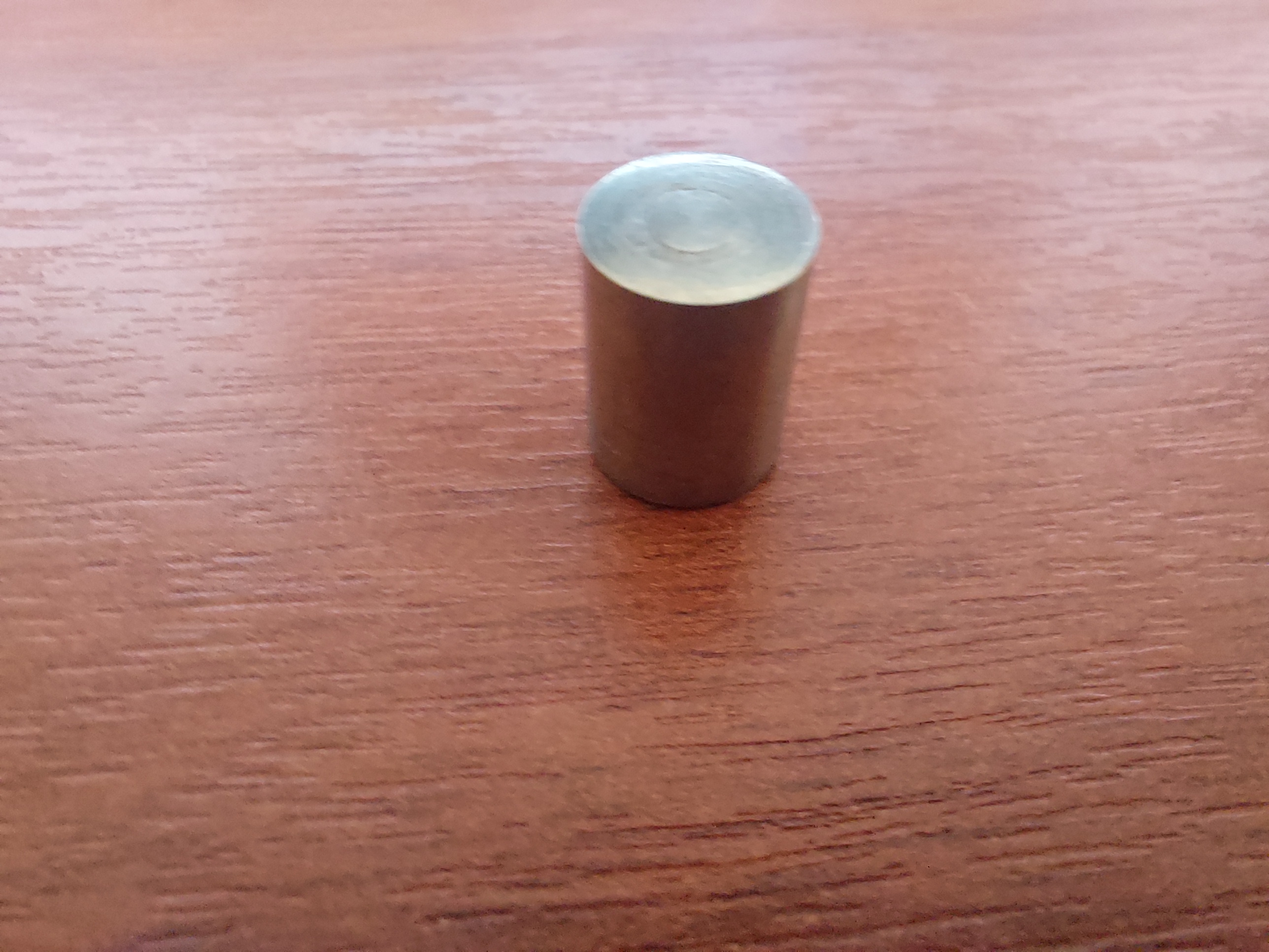tablet: (544, 125, 845, 531)
